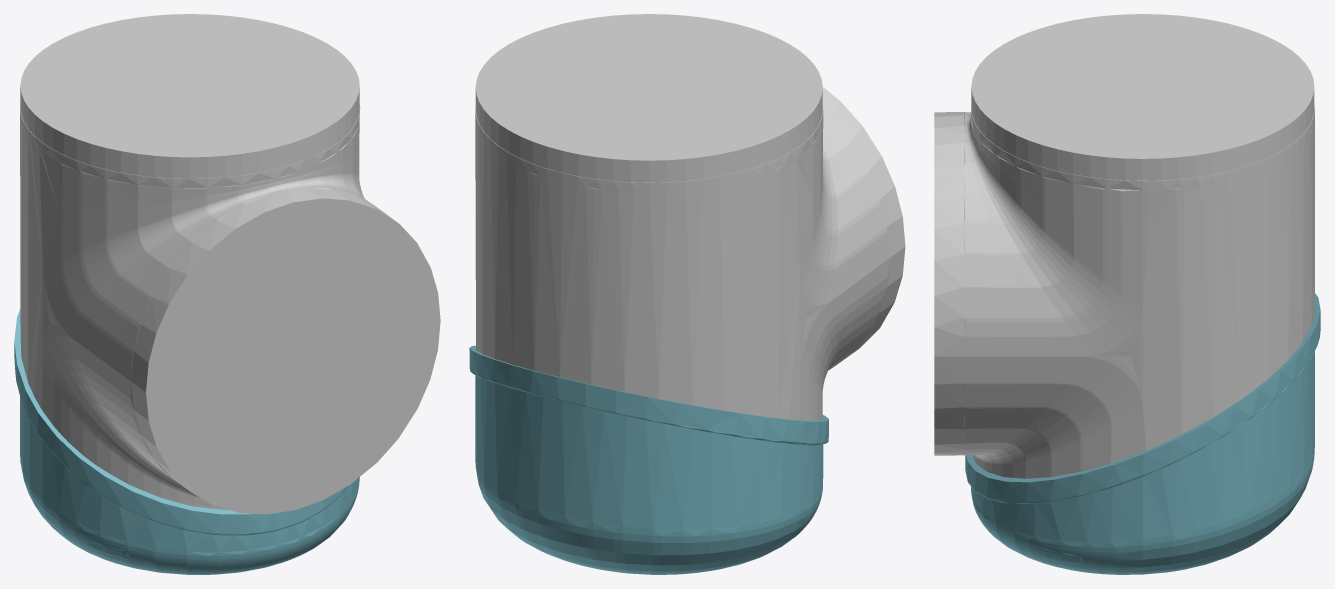
The model's file is wrist_1.dae.
3 views of the same model, side by side, from view 1: azimuth 30°, elevation 25°; view 2: azimuth 150°, elevation 25°; view 3: azimuth 270°, elevation 25° (orthographic). The views are drawn at different scales.
Visible parts, largest first — view 1: wrist1; view 2: wrist1; view 3: wrist1.
Boxes of the visible parts, x1,y1,x2,y2 form: wrist1: [14, 14, 440, 574]; wrist1: [469, 14, 905, 574]; wrist1: [934, 14, 1320, 574].
Bounding box in the file's own units: 0.0775 × 0.0843 × 0.1047.
